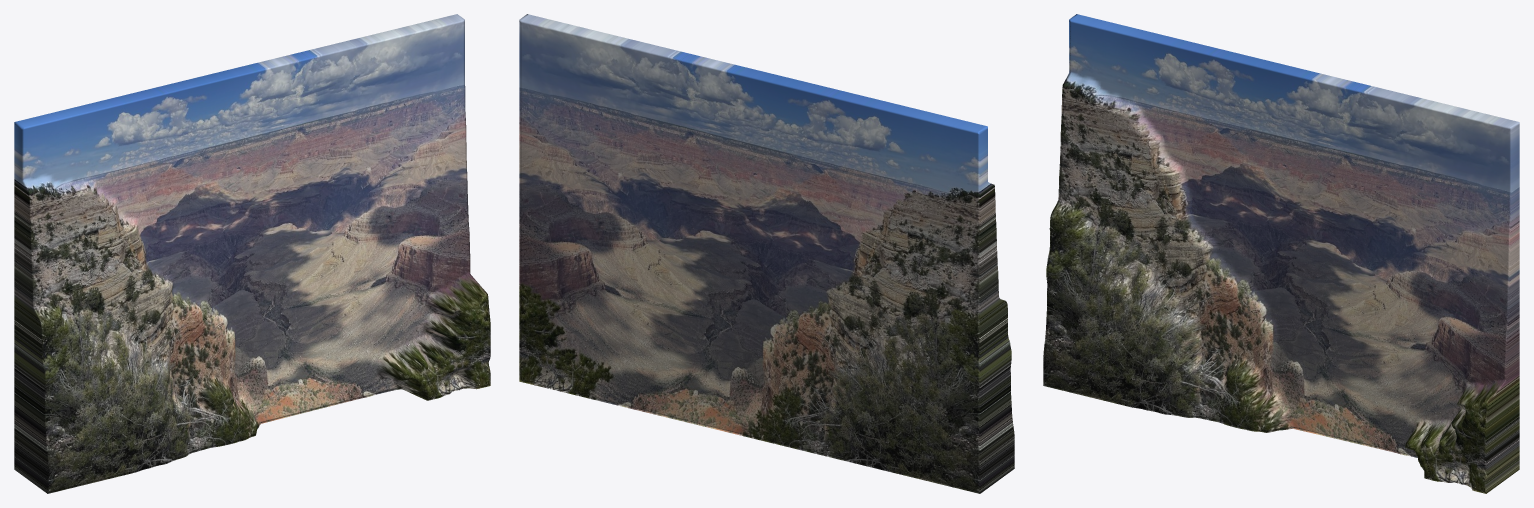
Rendered from relief-landscape.glb.
3 views of the same model, side by side, from view 1: azimuth 30°, elevation 25°; view 2: azimuth 150°, elevation 25°; view 3: azimuth 330°, elevation 25° (orthographic). The views are drawn at different scales.
Parts seen in each view (by area): view 1: Modelado; view 2: Modelado; view 3: Modelado.
Boxes of the visible parts, x1,y1,x2,y2 form: Modelado: (14,14,490,493); Modelado: (519,14,1014,493); Modelado: (1043,14,1519,493).
Size of the model in its own units: 1 by 0.75 by 0.13.
Materials: 1 (1 with a texture image).
